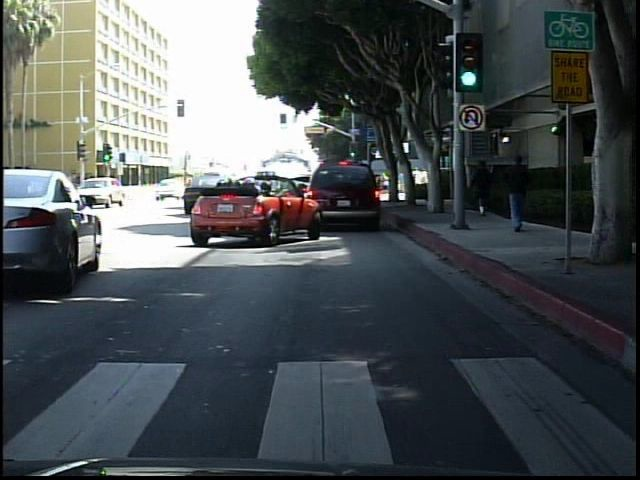person: (504, 144, 542, 240), (472, 155, 496, 219)
